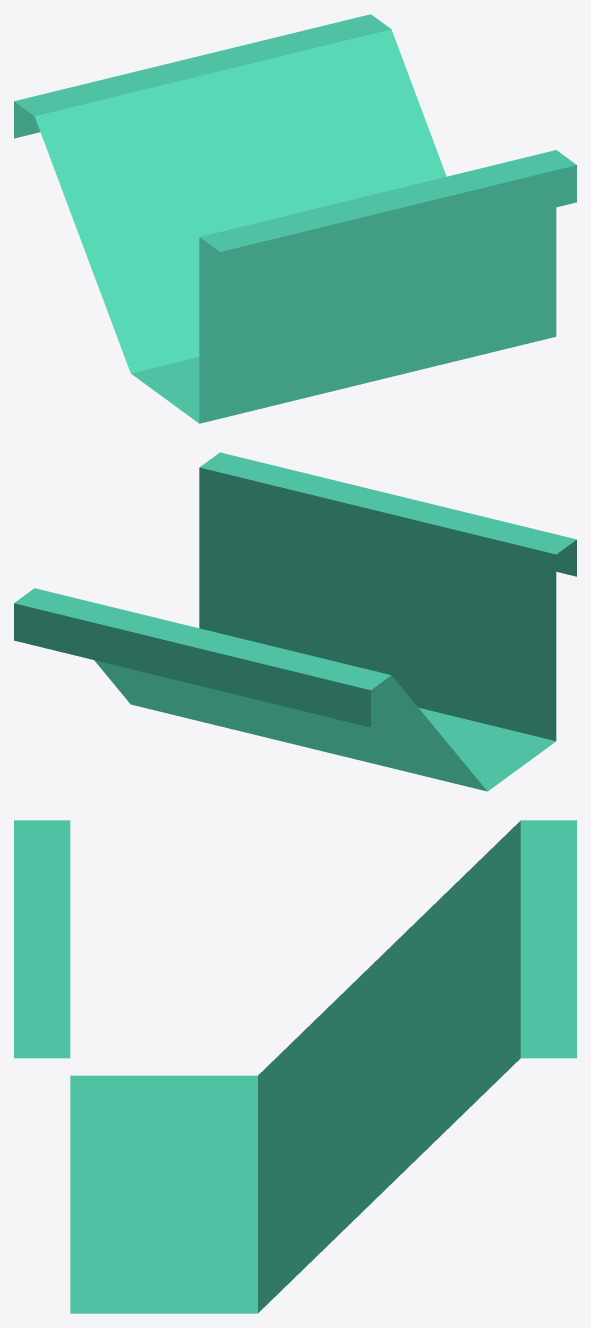
File: Floor_1x1m_A.FBX
The picture shows the model from 3 angles, top to bottom: view 1: azimuth 30°, elevation 25°; view 2: azimuth 150°, elevation 25°; view 3: azimuth 270°, elevation 25°; orthographic projection. The views are drawn at different scales.
Parts seen in each view (by area): view 1: Floor_1x1m_A; view 2: Floor_1x1m_A; view 3: Floor_1x1m_A.
Part boxes in pixels (box(x1,y1,x2,y2)): Floor_1x1m_A: box(14, 14, 576, 423); Floor_1x1m_A: box(14, 452, 576, 791); Floor_1x1m_A: box(14, 820, 576, 1313).
Bounding box in the file's own units: 100 × 50 × 100.
